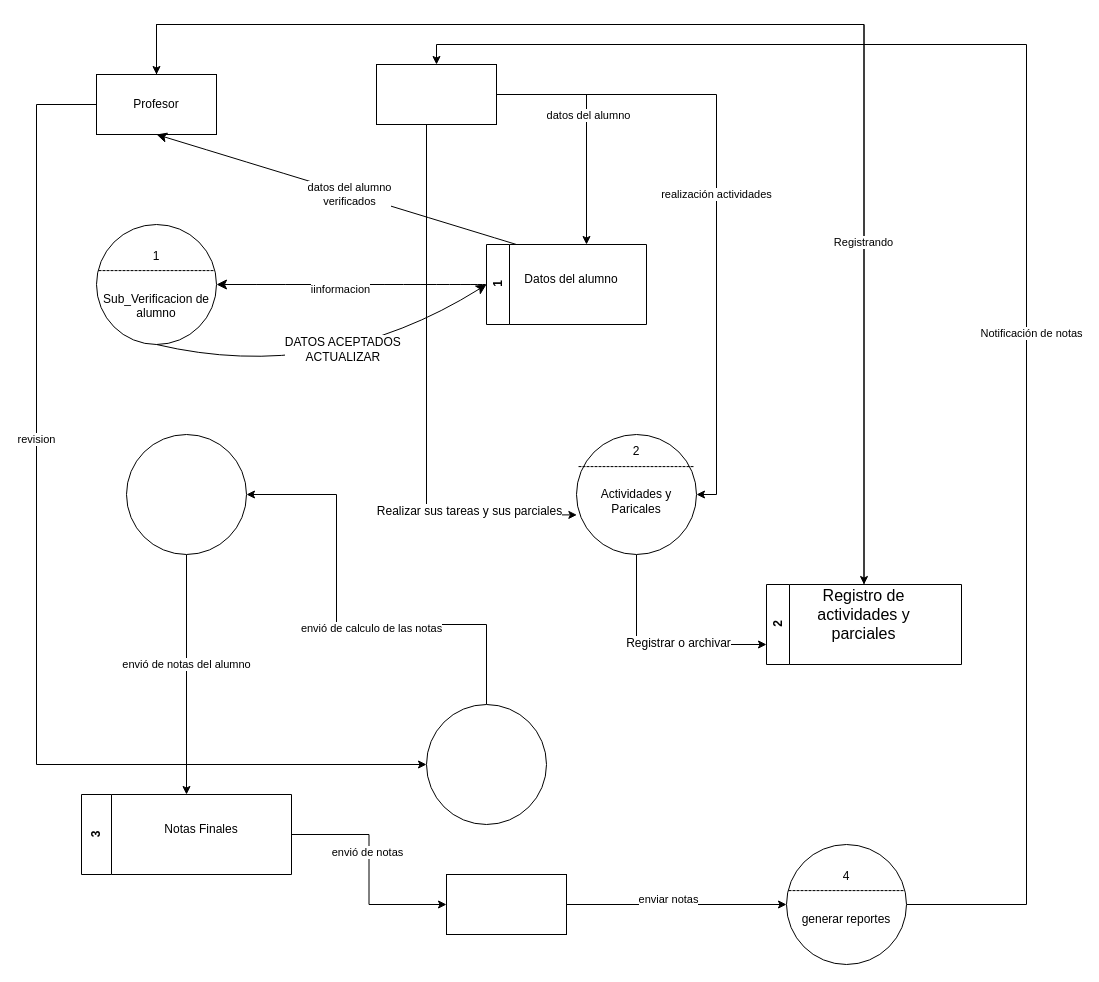
The diagram is 1099 pixels wide and 982 high, and some of its shapes have lost their labels. Here are the shapes that lost their labels. From the top down, the centre of each, then its label:
At point 436,94: "Alumno".
At point 186,494: "4 ----------------------------- Registro".
At point 486,764: "3 ----------------------------- Calculo de notas finales".
At point 506,904: "Secretariado".
